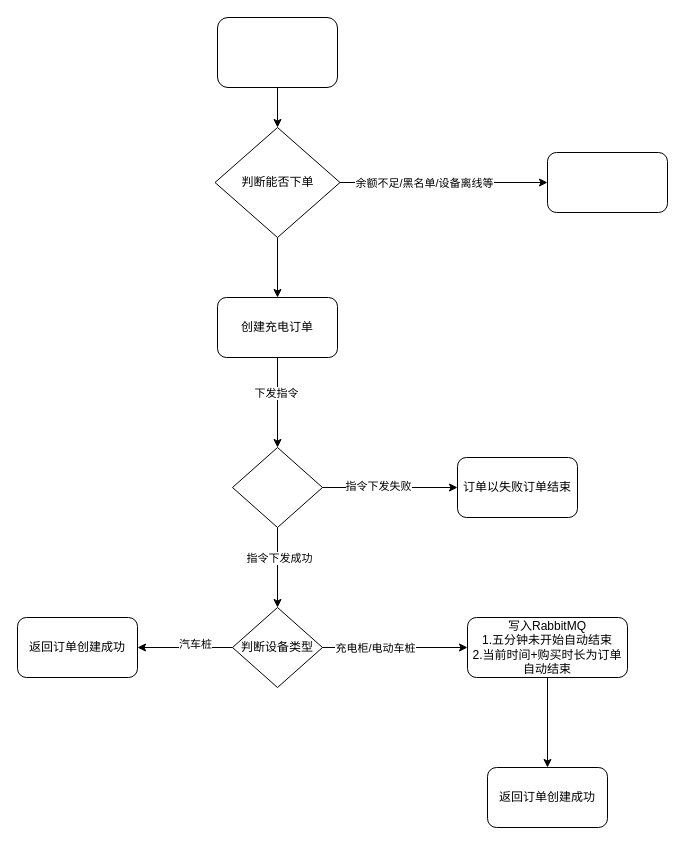
Image size: 685x845. Some labels were removed from this diagram. The centre of each missing label's shape, as x and y in pixels:
下单失败: the point at 607,182
判断供应商: the point at 277,487
用户下单: the point at 277,52
